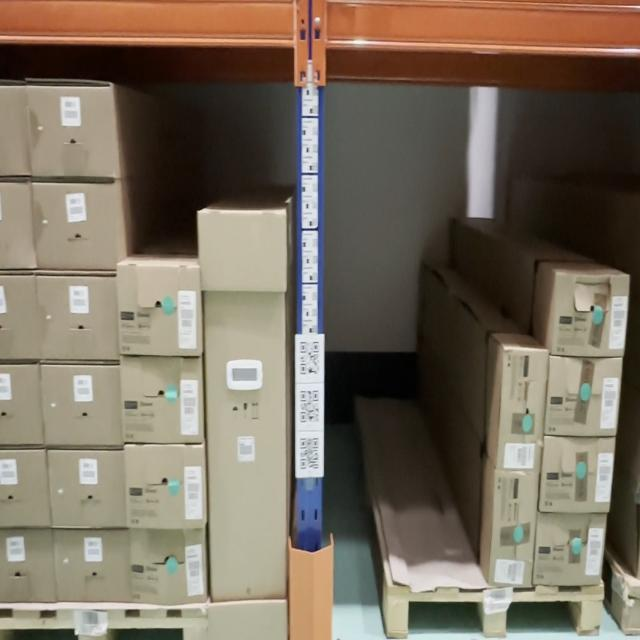box: (198, 213, 287, 603), (30, 86, 116, 176), (118, 267, 201, 354), (37, 185, 115, 269), (37, 278, 118, 358), (125, 360, 202, 443), (125, 449, 204, 526), (130, 526, 206, 602), (46, 367, 119, 444), (548, 358, 618, 436), (51, 452, 124, 525), (557, 278, 625, 355), (55, 532, 130, 600), (543, 440, 611, 510), (537, 514, 599, 584), (495, 471, 531, 586), (507, 350, 539, 470), (0, 451, 47, 527), (0, 531, 51, 601), (0, 365, 39, 446), (0, 276, 35, 359), (0, 182, 32, 268), (0, 83, 26, 175)
